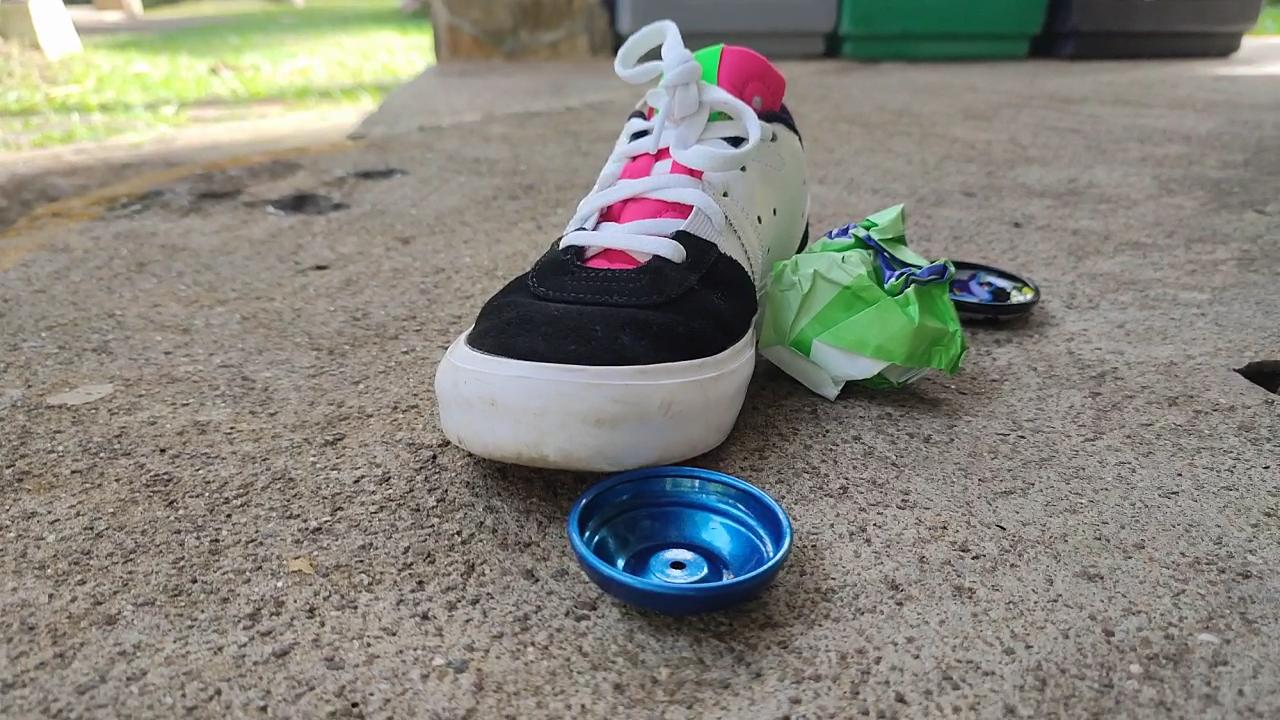Paper: (743, 195, 984, 413)
